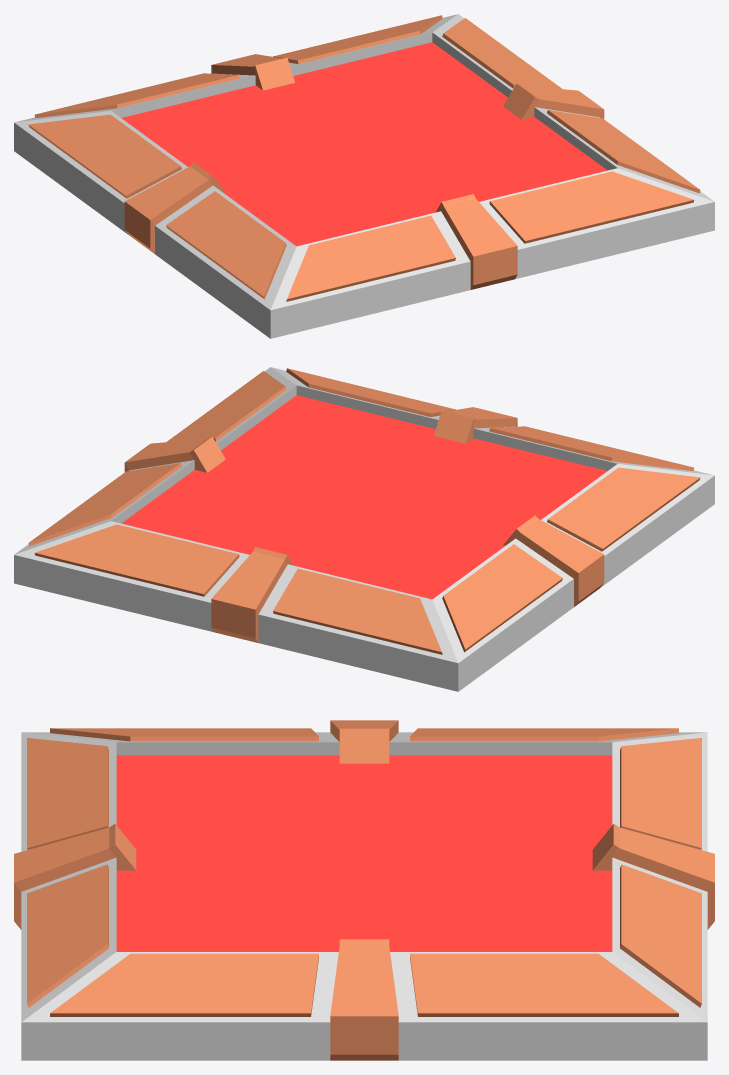
Rendered from button.fbx.
The picture shows the model from 3 angles, top to bottom: view 1: azimuth 30°, elevation 25°; view 2: azimuth 150°, elevation 25°; view 3: azimuth 270°, elevation 25°; orthographic projection. The views are drawn at different scales.
Parts seen in each view (by area): view 1: Cube; view 2: Cube; view 3: Cube.
Boxes of the visible parts, x1=… form: Cube: x1=14, y1=14, x2=714, y2=338; Cube: x1=14, y1=367, x2=714, y2=691; Cube: x1=14, y1=720, x2=714, y2=1060.
Size of the model in its own units: 283 by 36.37 by 283.
